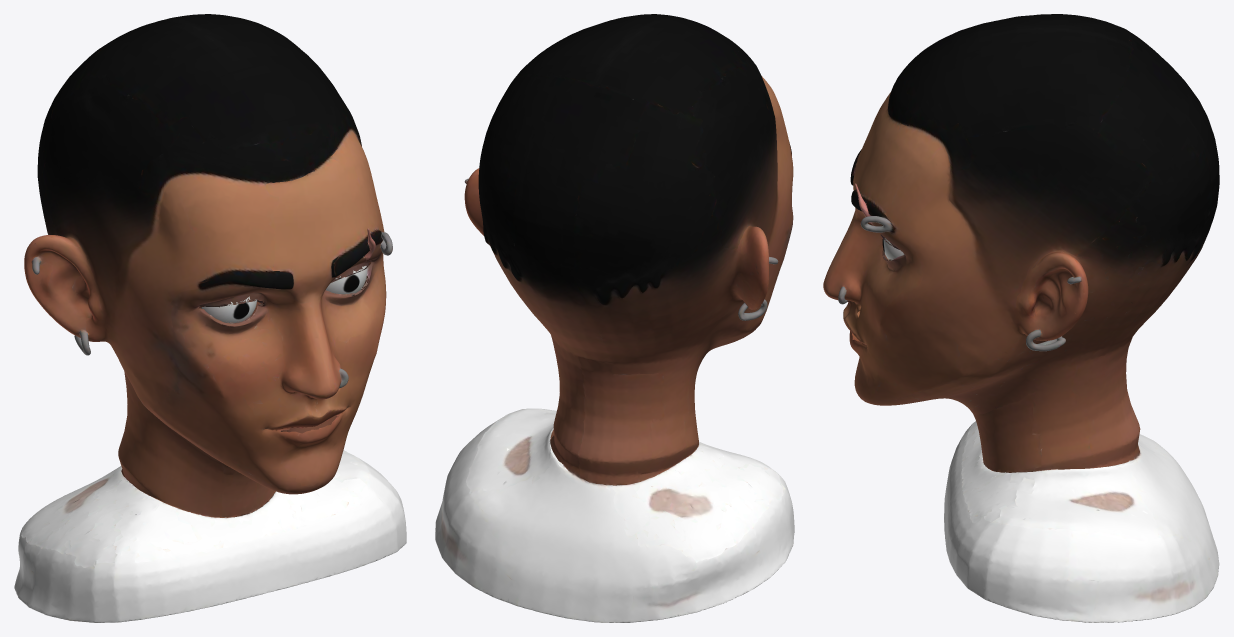
File: sample_00033.glb
3 views of the same model, side by side, from view 1: azimuth 30°, elevation 25°; view 2: azimuth 150°, elevation 25°; view 3: azimuth 270°, elevation 25° (orthographic). The views are drawn at different scales.
Visible parts, largest first — view 1: TopoRig_CoordinateSystem, EyeAU_CompleteBall_right, EyeAU_CompleteBall_left; view 2: TopoRig_CoordinateSystem; view 3: TopoRig_CoordinateSystem.
Part boxes in pixels (x1,y1,x2,y2): TopoRig_CoordinateSystem: (14,14,406,622); EyeAU_CompleteBall_right: (201,296,256,323); EyeAU_CompleteBall_left: (326,256,367,295); TopoRig_CoordinateSystem: (435,14,794,622); TopoRig_CoordinateSystem: (823,14,1219,622).
Size of the model in its own units: 1.32 by 2.02 by 1.36.
3 materials, 3 textured.
